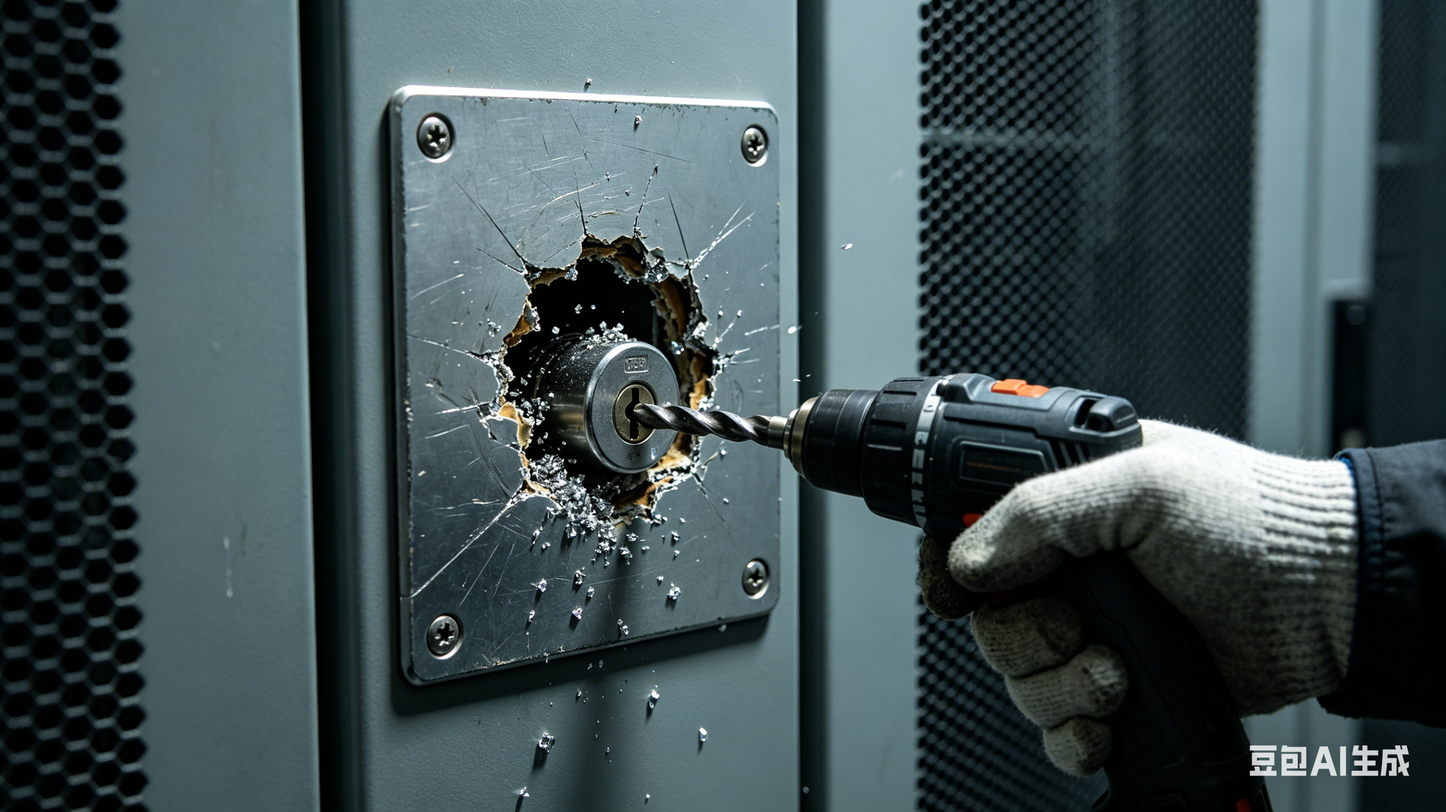BadLock: (487, 254, 735, 527)
